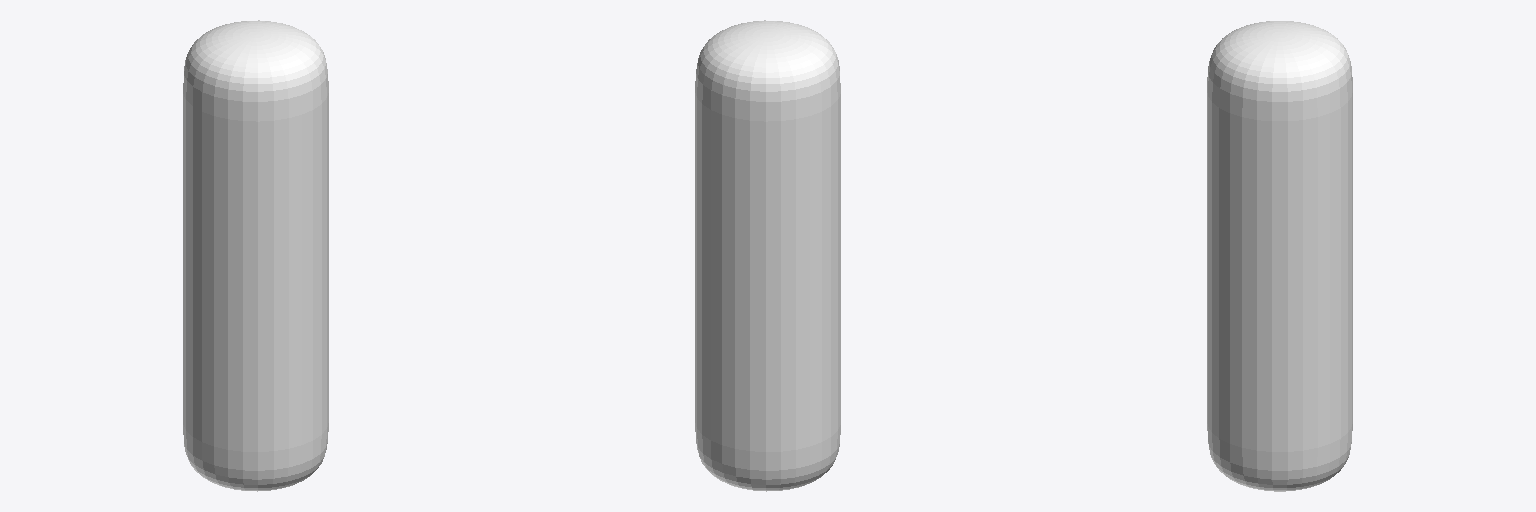
The robot description file, URDF, robot "obs":
<?xml version="1.0" ?>
<robot name="obs">
  <link name="obs_Link">
    <inertial>
      <origin rpy="0 0 0" xyz="0 0 0"/>
       <mass value=".0"/>
       <inertia ixx="0" ixy="0" ixz="0" iyy="0" iyz="0" izz="0"/>
    </inertial>
    <visual>
      <origin rpy="0 0 0" xyz="0 0 0"/>
      <geometry>
	      <mesh filename="obs002.stl" scale="1 1 1"/>
      </geometry>
      <material name="white">
        <color rgba="1 1 1 1"/>
      </material>
    </visual>
  </link>
</robot>

--- Facts derived from the render (not from the file) ---
The picture shows the robot from 3 angles, left to right: view 1: azimuth 30°, elevation 25°; view 2: azimuth 150°, elevation 25°; view 3: azimuth 270°, elevation 25°; orthographic projection.
Model obs with 1 links and 0 joints (none), rooted at obs_Link, posed all joints at 0.
Links seen in each view (by area): view 1: obs_Link; view 2: obs_Link; view 3: obs_Link.
Link boxes in pixels (<box>): obs_Link: <box>183,20,328,491</box>; obs_Link: <box>695,20,840,491</box>; obs_Link: <box>1207,21,1352,491</box>.
Bounding box of the posed robot: 5.97 × 5.98 × 20 m (x, y, z).
Meshes: 1 distinct files referenced, 1 mesh visuals loaded (1 binary STL).
